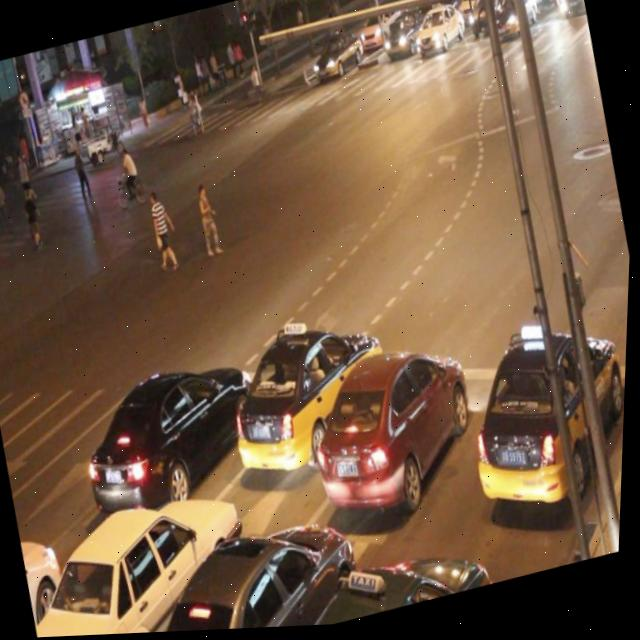car: (18, 475, 269, 639), (450, 312, 630, 527), (299, 332, 493, 528), (73, 346, 278, 526), (217, 303, 409, 489), (127, 508, 371, 635), (298, 534, 499, 629), (19, 524, 84, 639)
